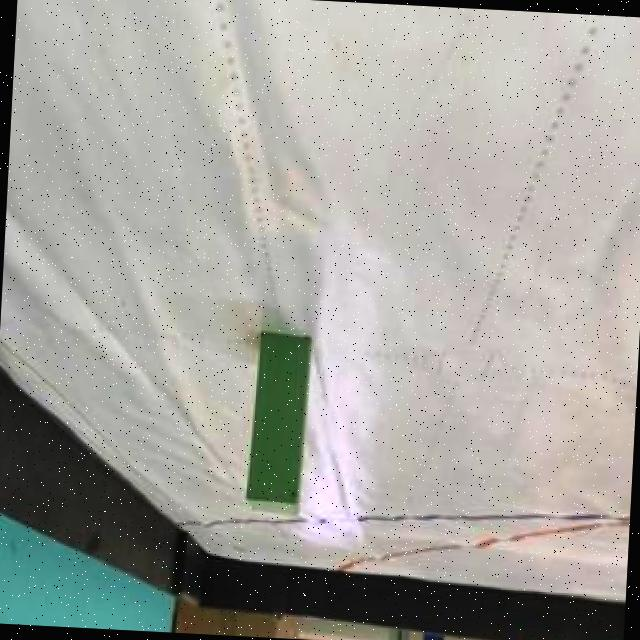greenbox: (241, 327, 312, 520)
